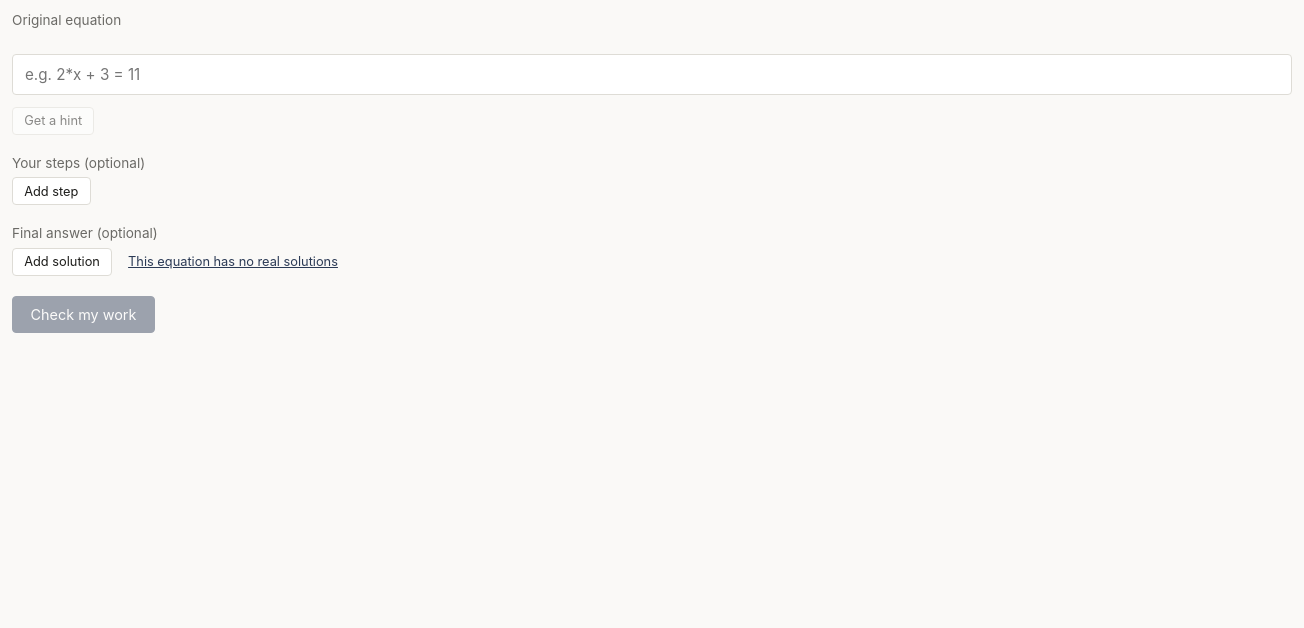
Test: CheckWorkForm › renders the independent final-answer result
Type "2*x = 8" into the field labelled "Original equation" at {"x": 652, "y": 74}, box [12,54,1292,95]
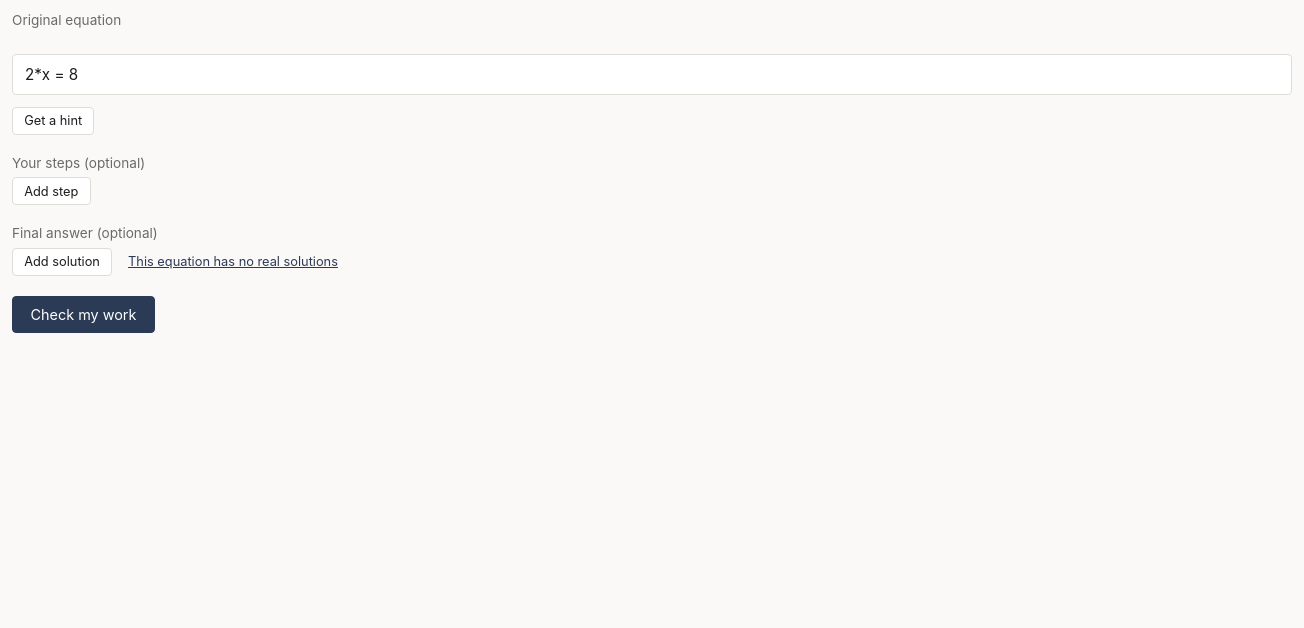
Click the button "Add solution" at {"x": 62, "y": 262}, box [12,248,112,276]
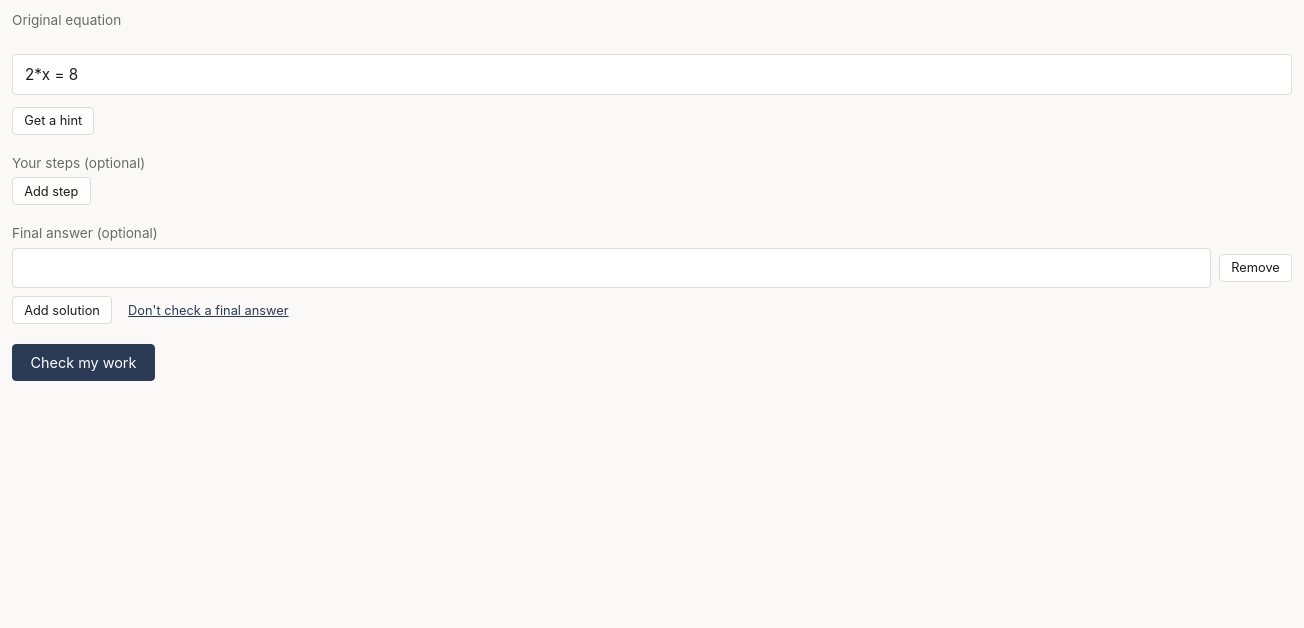
Type "4" into the field named "Proposed solution 1" at {"x": 612, "y": 268}, box [12,248,1211,288]
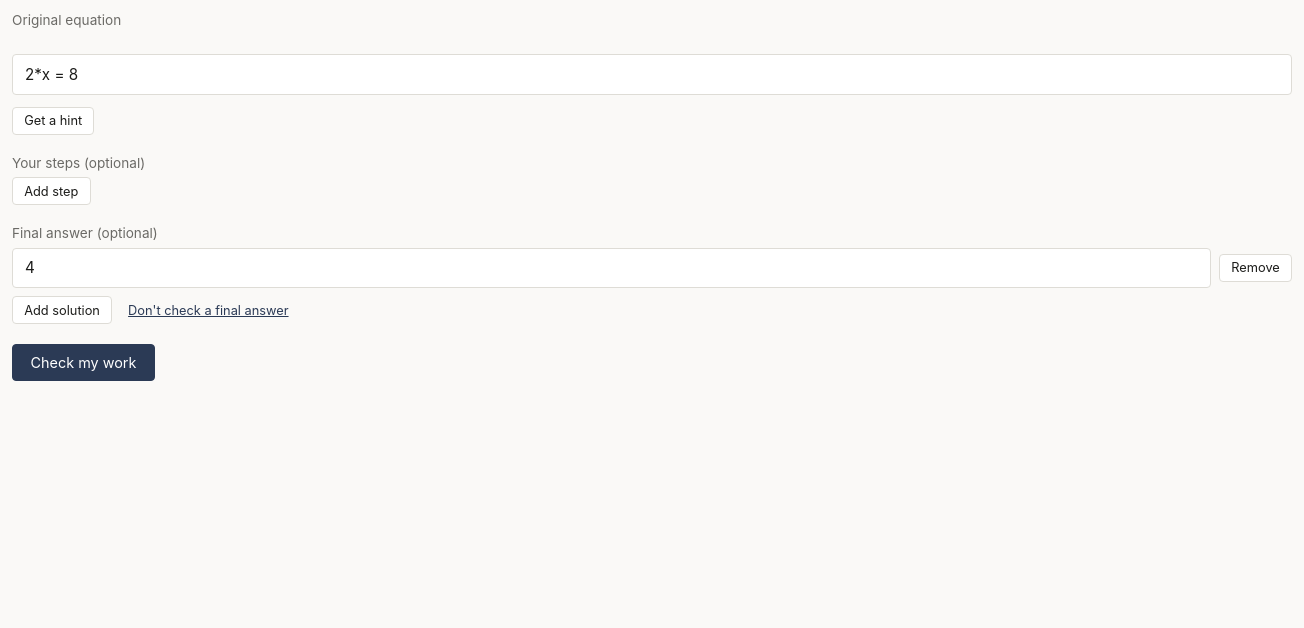
Click the button "Check my work" at {"x": 84, "y": 362}, box [12,344,155,381]
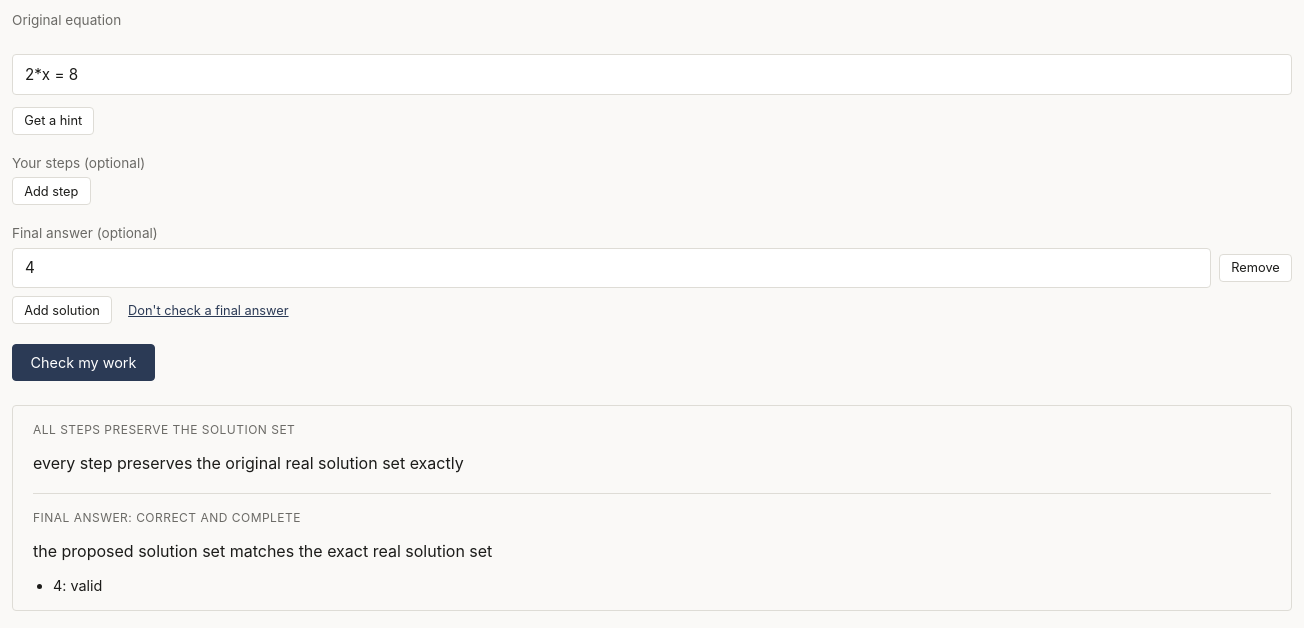
Expected: the text "Final answer: Correct and complete" is shown, [33,510,301,525]
Expected: the list item "4: valid" is shown, [53,577,102,594]
